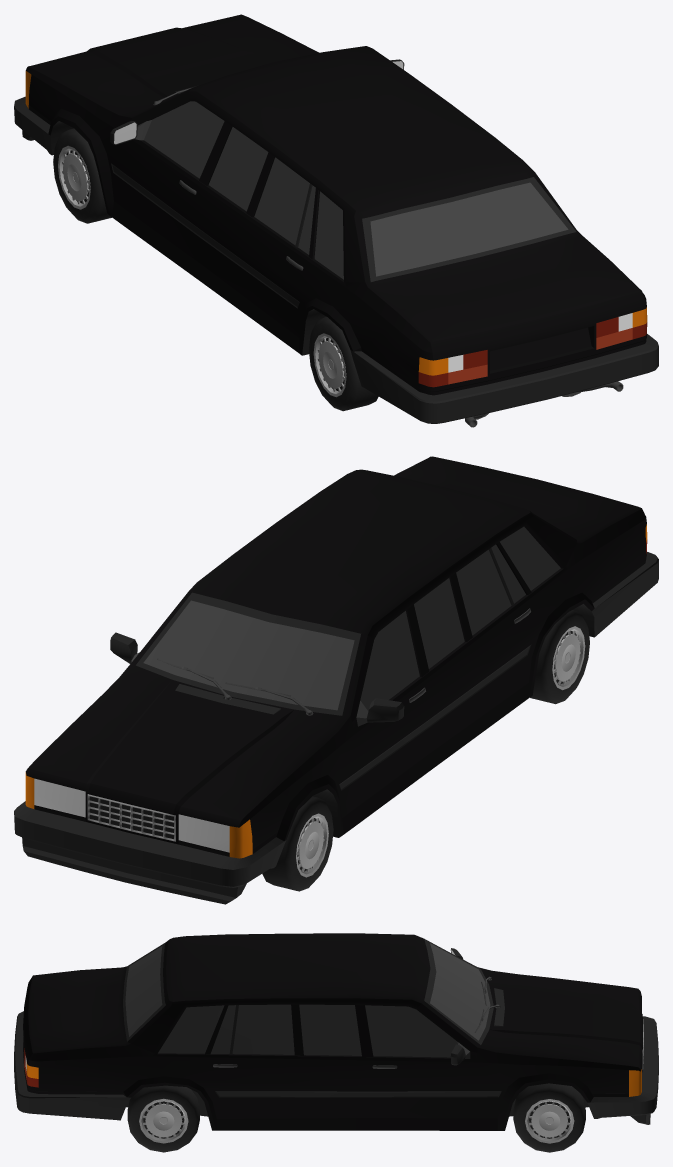
The model's file is m8_long_sedan_black.glb.
3 renders of one model, top to bottom at view 1: azimuth 30°, elevation 25°; view 2: azimuth 150°, elevation 25°; view 3: azimuth 270°, elevation 25°, orthographic. The views are drawn at different scales.
Parts seen in each view (by area): view 1: Body, Wheel_RL, Wheel_FL; view 2: Body, Wheel_FL, Wheel_RL; view 3: Body, Wheel_FR, Wheel_RR.
Part boxes in pixels (x1,y1,x2,y2): Body: [14, 14, 658, 423]; Wheel_RL: [309, 316, 378, 411]; Wheel_FL: [53, 128, 111, 223]; Body: [14, 456, 658, 904]; Wheel_FL: [262, 796, 333, 891]; Wheel_RL: [530, 610, 589, 704]; Body: [14, 933, 658, 1130]; Wheel_FR: [513, 1083, 585, 1152]; Wheel_RR: [127, 1085, 199, 1152].
Bounding box in the file's own units: 2.13 × 1.36 × 5.41.
Materials: 1 (1 with a texture image).
